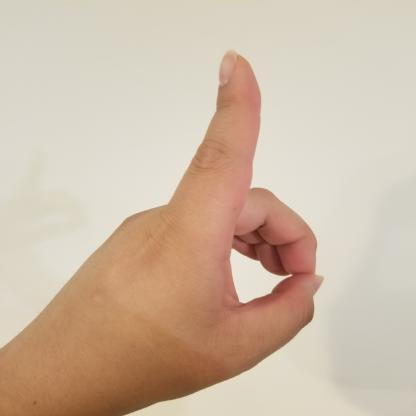D: (18, 46, 330, 415)
